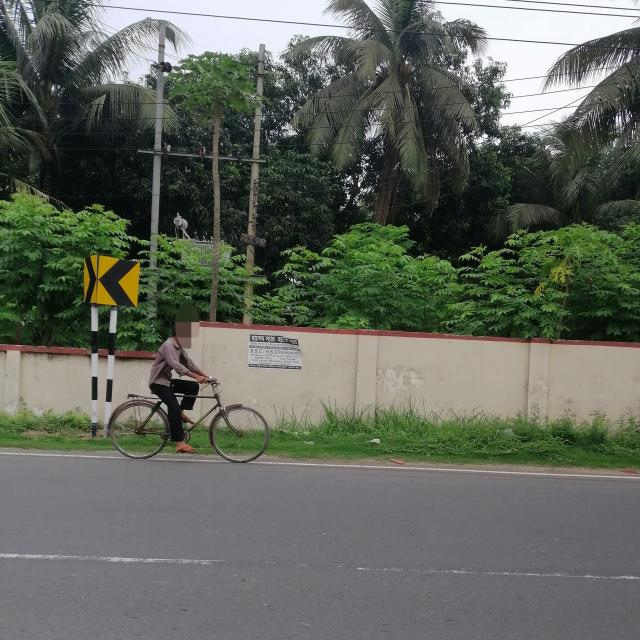Bicycle: (106, 378, 274, 468)
